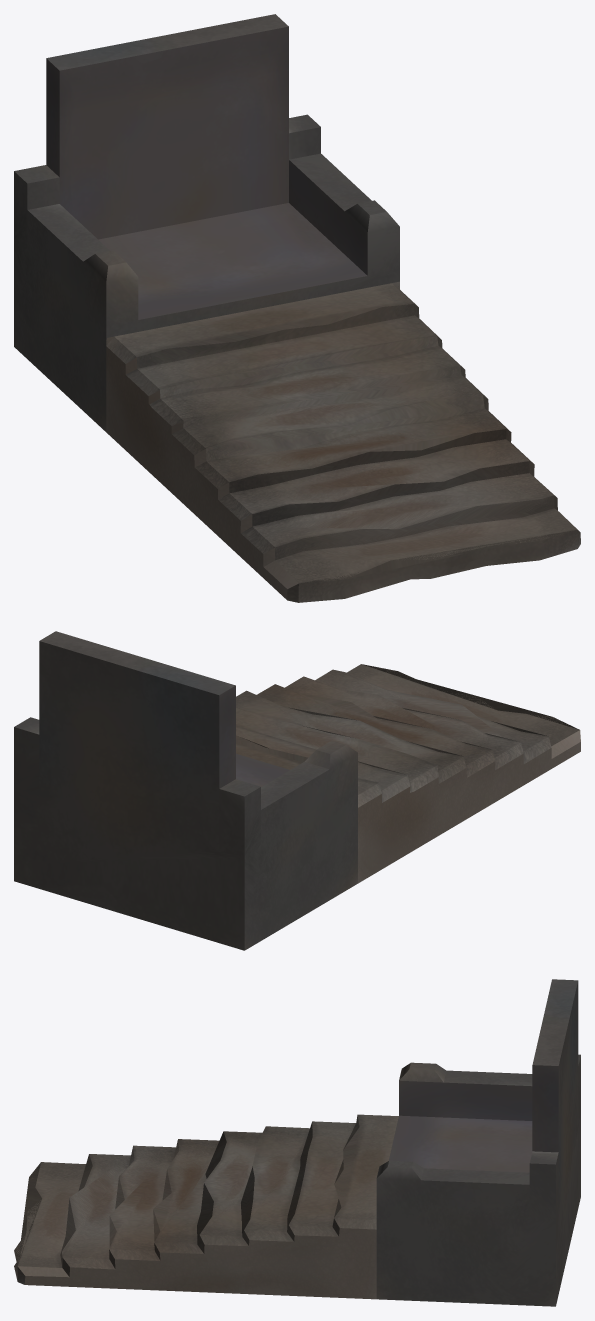
Rendered from Casket_Throne.fbx.
3 renders of one model, top to bottom at view 1: azimuth 30°, elevation 25°; view 2: azimuth 150°, elevation 25°; view 3: azimuth 270°, elevation 25°, orthographic. The views are drawn at different scales.
Visible parts, largest first — view 1: Stairs, Throne; view 2: Throne, Stairs; view 3: Stairs, Throne.
Part boxes in pixels (bbox=[...]): Stairs: bbox=[106, 283, 580, 602]; Throne: bbox=[14, 14, 399, 431]; Throne: bbox=[14, 631, 357, 950]; Stairs: bbox=[236, 664, 580, 883]; Stairs: bbox=[14, 1114, 398, 1299]; Throne: bbox=[376, 979, 580, 1306].
Size of the model in its own units: 307 by 248 by 559.
